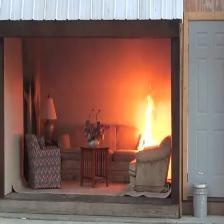fire: (133, 90, 169, 146)
